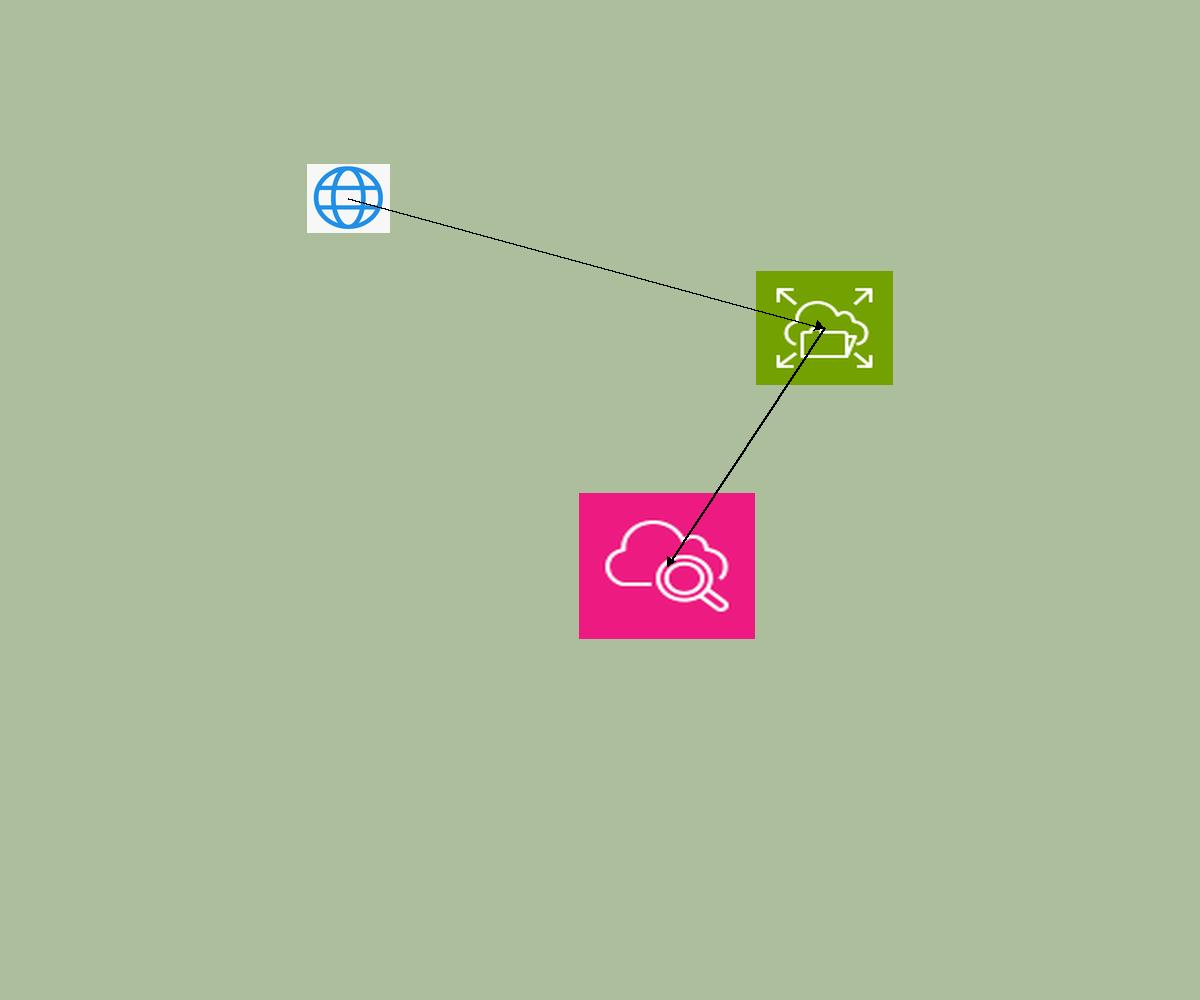AWS-CloudWatch: (579, 493, 755, 639)
AWS-EFS: (756, 271, 893, 385)
Azure_http: (307, 164, 390, 233)
